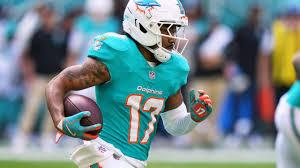americanFootball: (66, 94, 103, 135)
